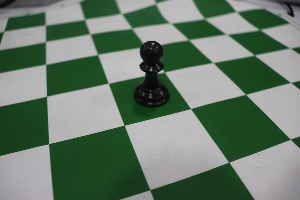black_pawn: (123, 32, 174, 112)
